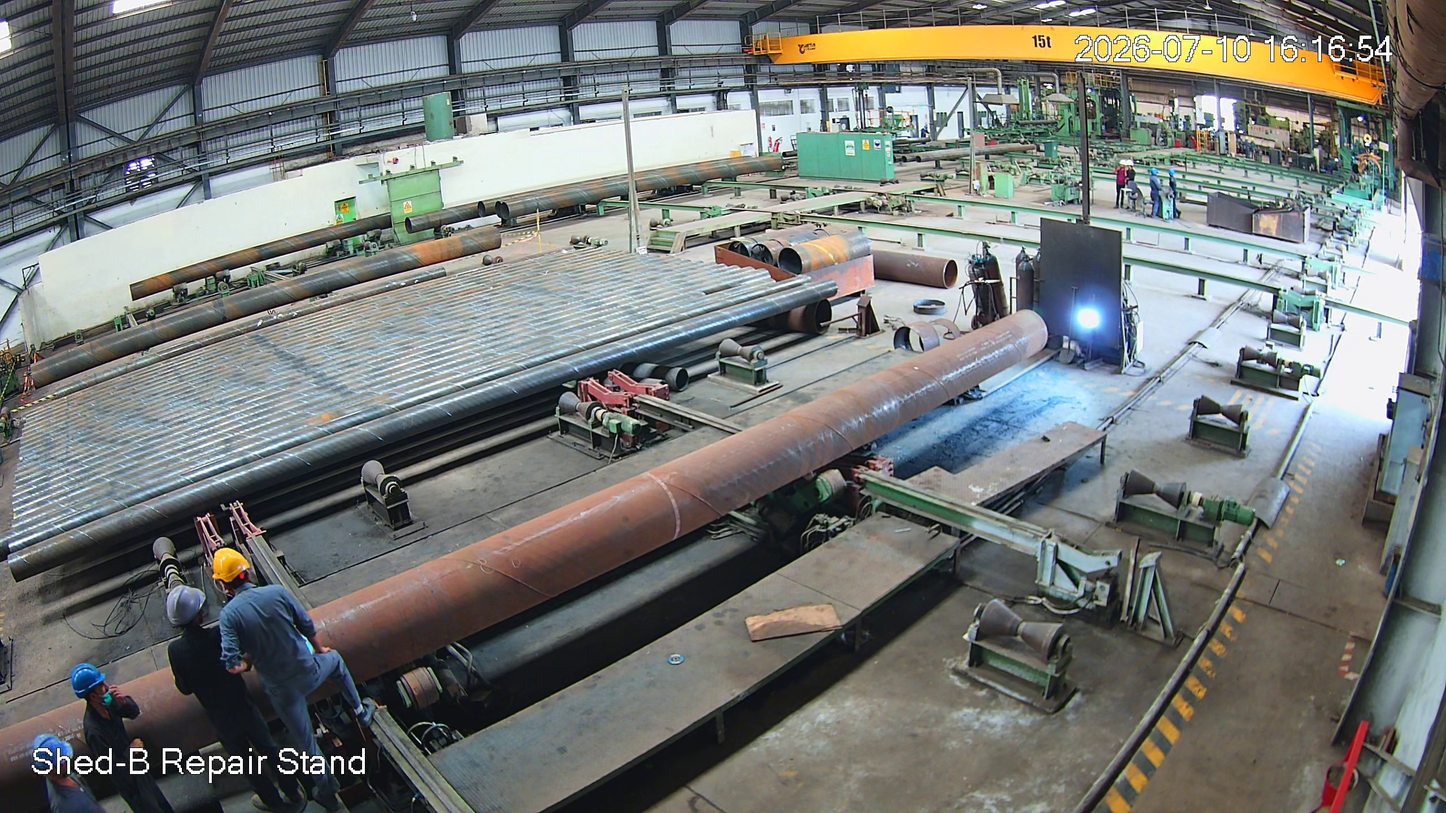Helmet: (32, 717, 79, 794), (160, 576, 214, 639), (204, 542, 259, 600), (68, 659, 115, 714), (1118, 157, 1129, 175), (1149, 165, 1160, 180), (1167, 168, 1178, 180), (1127, 160, 1135, 170)
Person: (205, 549, 381, 763), (160, 577, 272, 813), (81, 654, 161, 813), (30, 723, 92, 813), (1147, 167, 1164, 219), (1166, 170, 1182, 224), (1113, 159, 1127, 211), (1125, 160, 1135, 188)
